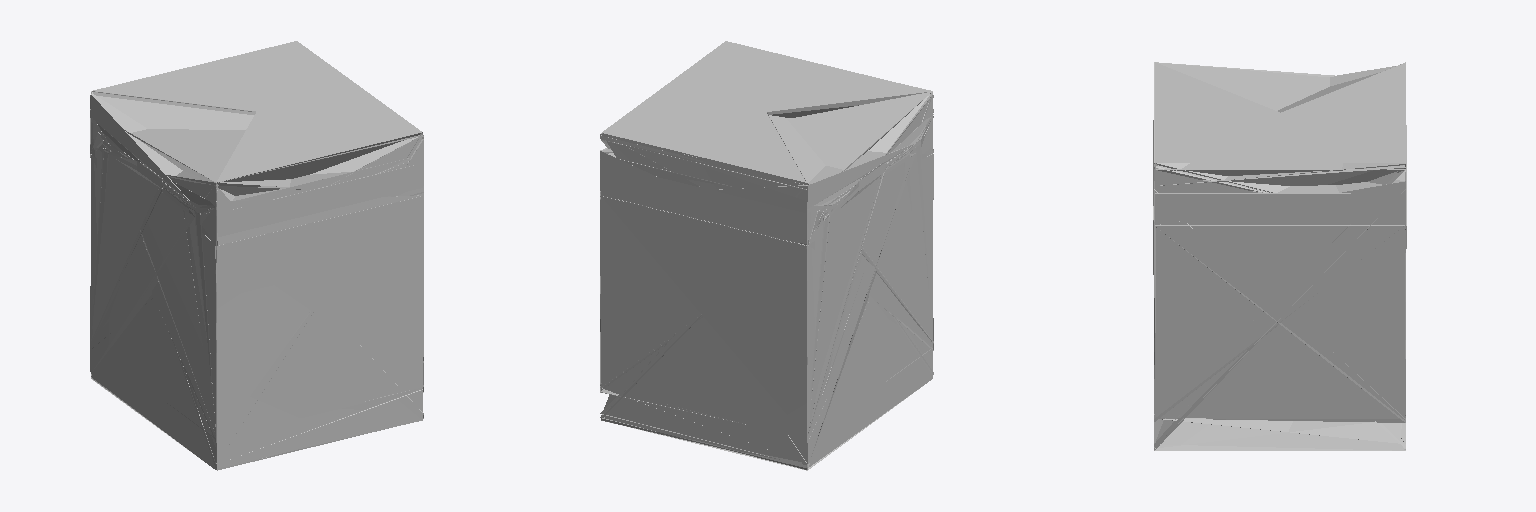
File: dishwasher.obj
3 renders of one model, left to right at view 1: azimuth 30°, elevation 25°; view 2: azimuth 150°, elevation 25°; view 3: azimuth 270°, elevation 25°, orthographic.
Visible parts, largest first — view 1: Box20205; view 2: Box20205; view 3: Box20205.
Part boxes in pixels (left/top/right/bottom): Box20205: left=90, top=41, right=423, bottom=470; Box20205: left=600, top=41, right=933, bottom=470; Box20205: left=1153, top=62, right=1406, bottom=450.
Size of the model in its own units: 732 by 956 by 763.